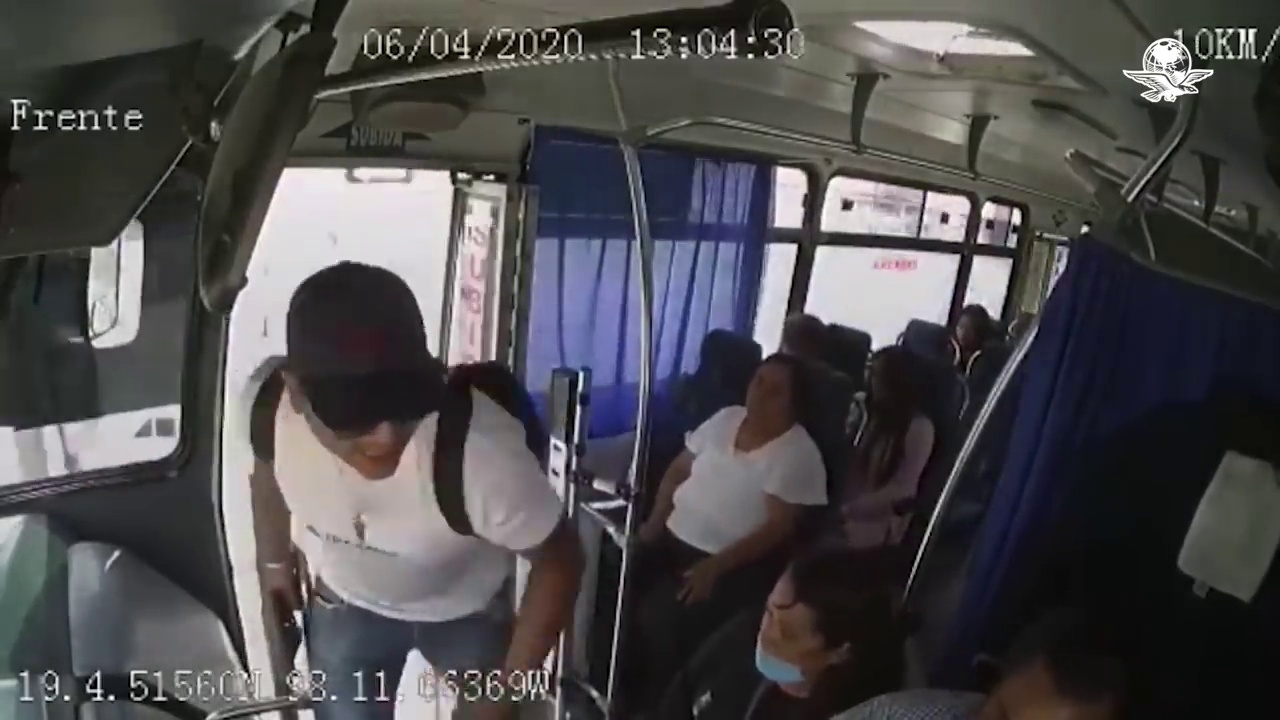pistol: (266, 585, 303, 673)
